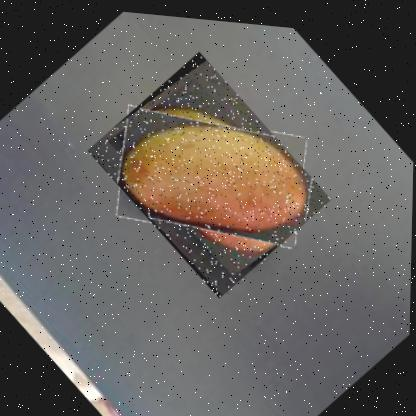mango: (85, 39, 336, 305)
